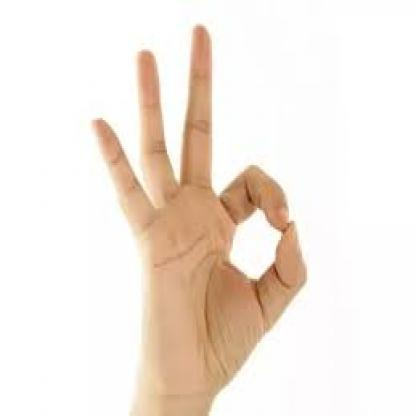ok: (88, 19, 310, 406)
